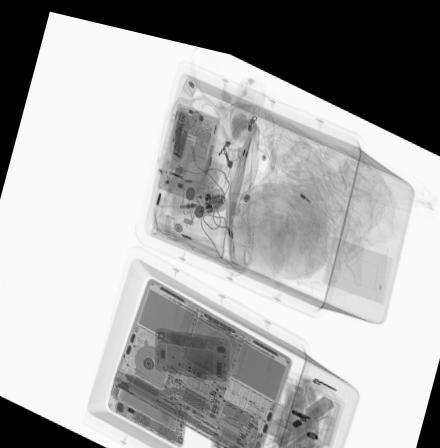Powerbank: (211, 421, 266, 448)
